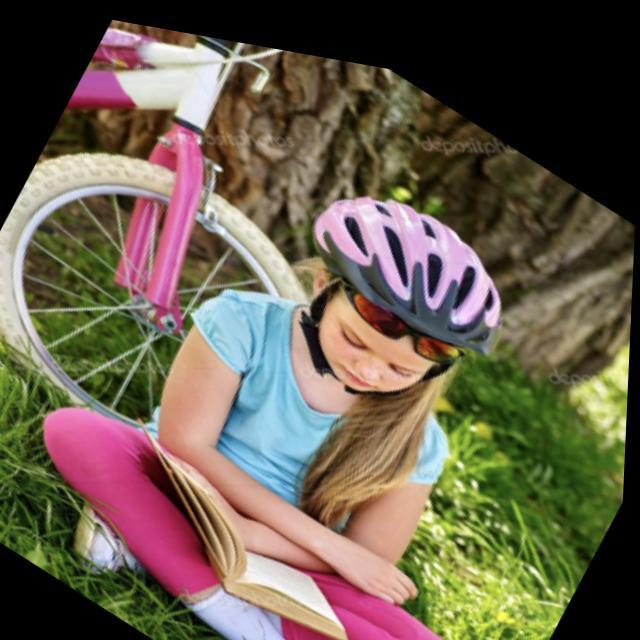Helmet: (289, 179, 501, 401)
